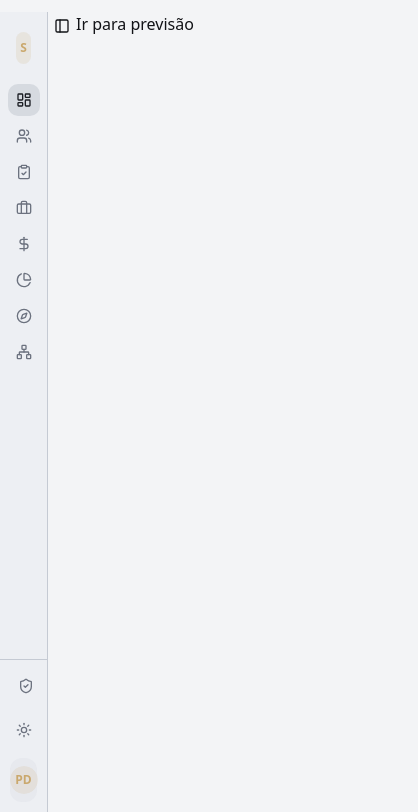
Scenario: Sidebar compacto › expande o menu ao clicar no ícone de uma área recolhida e deixa os destinos utilizáveis
Expected: the link "Tarefas" is not shown
Step 1. Click the button named "Operação" → (24, 172), box [8, 156, 40, 188]
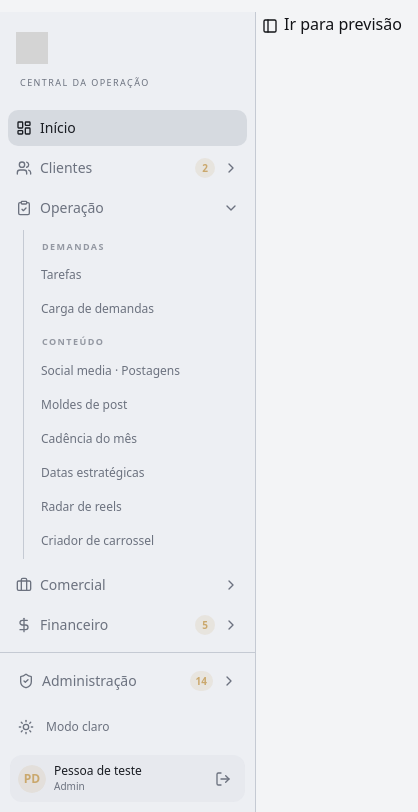
Expected: the button "Operação" is expanded, [8, 190, 247, 226]
Expected: the link "Tarefas" is shown, [41, 266, 82, 283]
